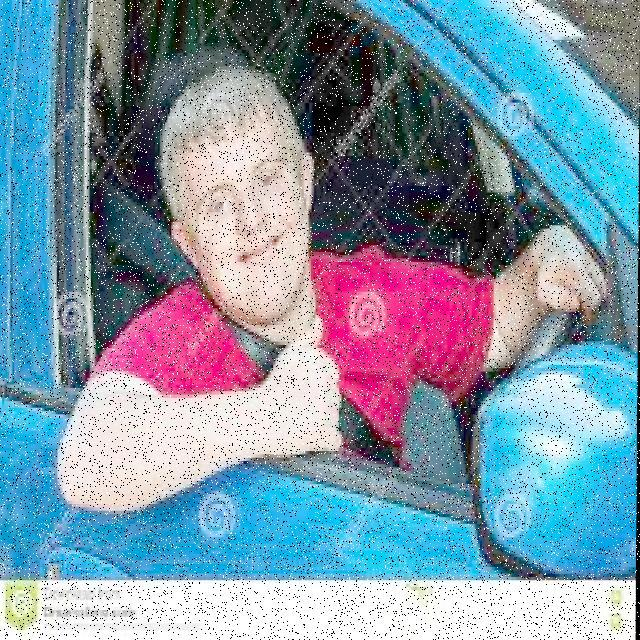seatbelt: (198, 258, 418, 456)
